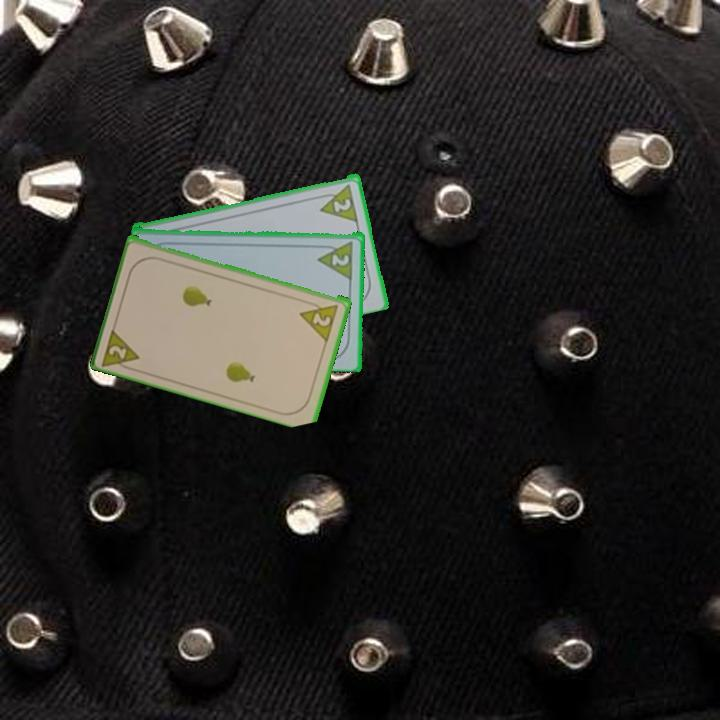2p: (98, 323, 143, 374), (309, 308, 334, 329), (330, 194, 354, 214), (329, 249, 352, 268)
